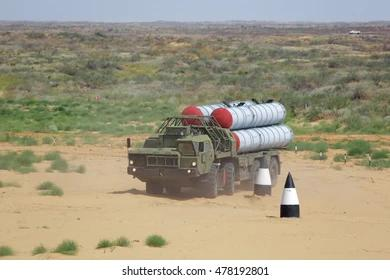MIL_SAM_TEL: (121, 92, 296, 200)
